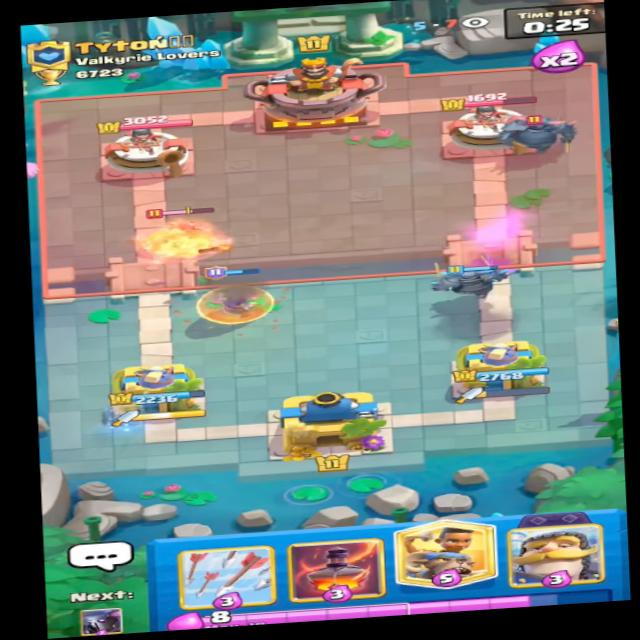Pekka: (500, 104, 579, 157)
